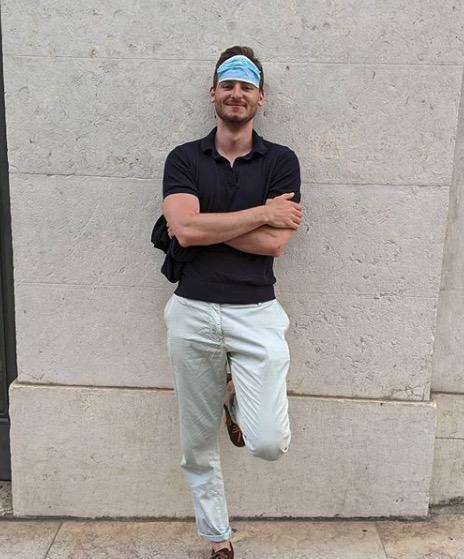mask_weared_incorrect: (212, 63, 263, 120)
